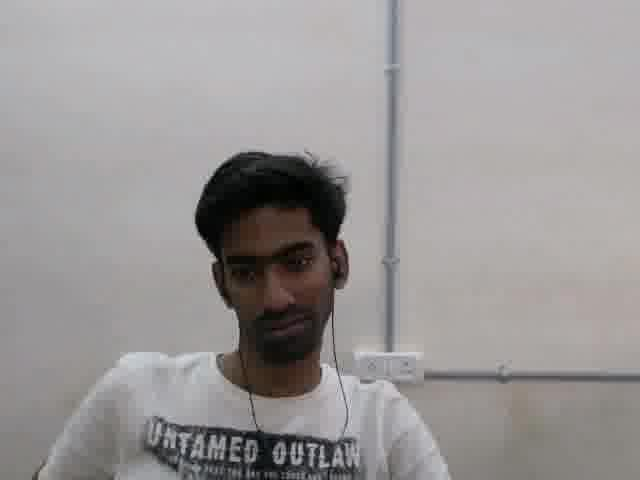bosan: (217, 210, 331, 353)
